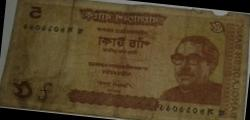5 taka: (8, 1, 244, 118)
